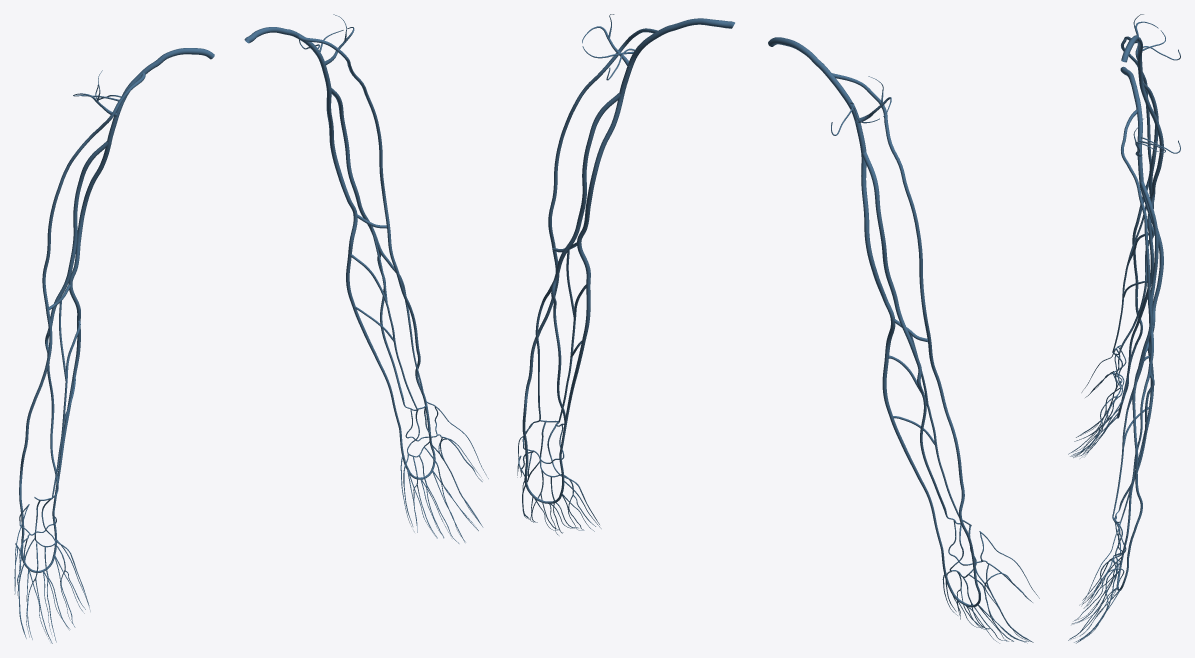
The model's file is venous-upper-limb-balanced.glb.
3 views of the same model, side by side, from view 1: azimuth 30°, elevation 25°; view 2: azimuth 150°, elevation 25°; view 3: azimuth 270°, elevation 25° (orthographic). The views are drawn at different scales.
Visible parts, largest first — view 1: za.cephalic-vein-r, za.cephalic-vein-l, za.basilic-vein-l, za.basilic-vein-r, za.palmar-digital-veins-r, za.palmar-digital-veins-l, za.brachial-veins-r, za.dorsal-digital-veins-of-hand-r, za.dorsal-digital-veins-of-hand-l, za.brachial-veins-l; view 2: za.cephalic-vein-r, za.basilic-vein-r, za.cephalic-vein-l, za.basilic-vein-l, za.brachial-veins-r, za.brachial-veins-l, za.palmar-digital-veins-r, za.palmar-digital-veins-l; view 3: za.cephalic-vein-l, za.basilic-vein-r, za.basilic-vein-l, za.cephalic-vein-r, za.palmar-digital-veins-l, za.brachial-veins-l, za.palmar-digital-veins-r, za.dorsal-digital-veins-of-hand-l, za.brachial-veins-r, za.dorsal-digital-veins-of-hand-r, za.axillary-vein-l, za.ulnar-veins-l (+8 smaller).
Part boxes in pixels (bbox=[...]): za.cephalic-vein-r: bbox=[19, 73, 145, 529]; za.cephalic-vein-l: bbox=[298, 34, 430, 430]; za.basilic-vein-l: bbox=[326, 88, 400, 426]; za.basilic-vein-r: bbox=[53, 142, 111, 511]; za.palmar-digital-veins-r: bbox=[17, 534, 89, 643]; za.palmar-digital-veins-l: bbox=[403, 434, 483, 543]; za.brachial-veins-r: bbox=[50, 141, 108, 327]; za.dorsal-digital-veins-of-hand-r: bbox=[14, 504, 90, 639]; za.dorsal-digital-veins-of-hand-l: bbox=[400, 405, 488, 541]; za.brachial-veins-l: bbox=[331, 88, 380, 248]; za.cephalic-vein-r: bbox=[832, 73, 975, 568]; za.basilic-vein-r: bbox=[861, 153, 942, 547]; za.cephalic-vein-l: bbox=[522, 28, 657, 458]; za.basilic-vein-l: bbox=[559, 94, 624, 454]; za.brachial-veins-r: bbox=[862, 152, 920, 365]; za.brachial-veins-l: bbox=[555, 92, 620, 277]; za.palmar-digital-veins-r: bbox=[945, 560, 1033, 642]; za.palmar-digital-veins-l: bbox=[520, 450, 599, 533]; za.cephalic-vein-l: bbox=[1121, 109, 1152, 556]; za.basilic-vein-r: bbox=[1127, 83, 1163, 376]; za.basilic-vein-l: bbox=[1127, 182, 1163, 532]; za.cephalic-vein-r: bbox=[1121, 36, 1151, 372]; za.palmar-digital-veins-l: bbox=[1068, 555, 1120, 643]; za.brachial-veins-l: bbox=[1140, 181, 1158, 368]; za.palmar-digital-veins-r: bbox=[1068, 371, 1119, 457]; za.dorsal-digital-veins-of-hand-l: bbox=[1071, 529, 1124, 641]; za.brachial-veins-r: bbox=[1143, 82, 1158, 208]; za.dorsal-digital-veins-of-hand-r: bbox=[1072, 346, 1124, 458]; za.axillary-vein-l: bbox=[1134, 97, 1143, 182]; za.ulnar-veins-l: bbox=[1115, 369, 1154, 519].
Bounding box in the file's own units: 0.6628 × 0.7098 × 0.1481.
